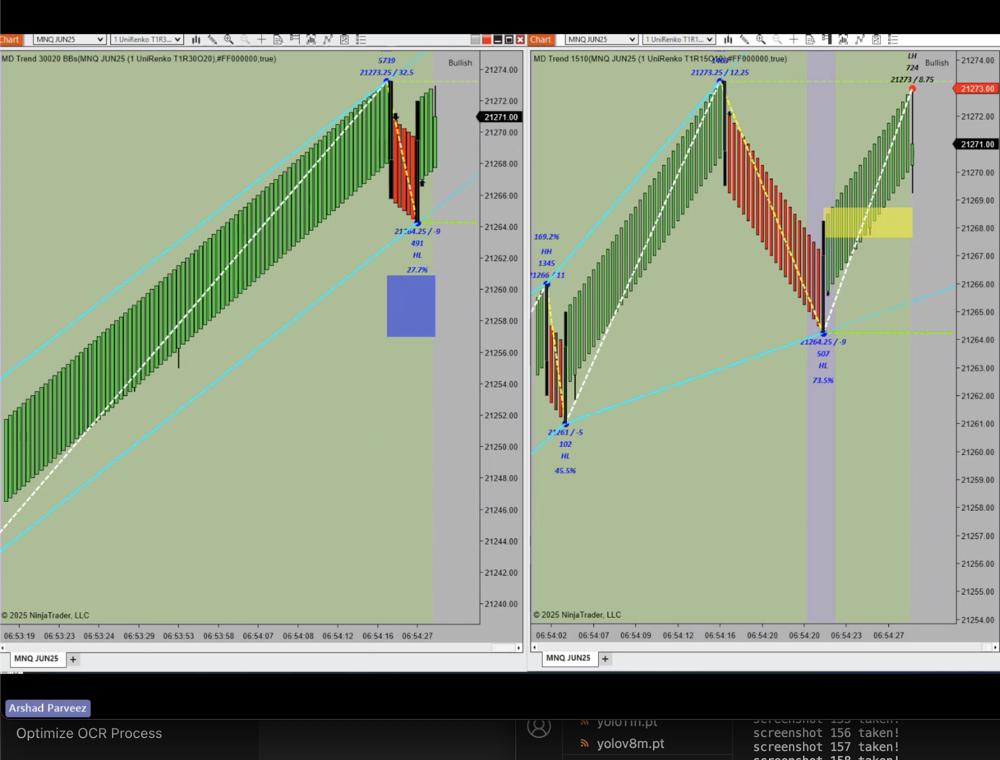HH: (535, 244, 561, 258)
HL: (406, 246, 430, 265), (555, 445, 577, 464), (815, 358, 835, 376)
LH: (901, 49, 922, 64)
